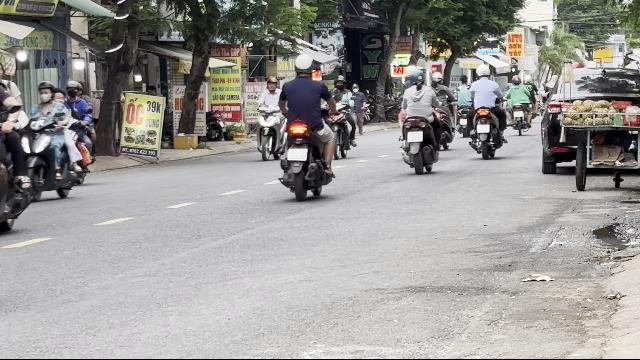helmet: (294, 54, 314, 76), (37, 80, 55, 102), (407, 66, 425, 86), (65, 80, 81, 100)
licenseplate: (287, 149, 307, 161), (407, 132, 423, 142)
motorcyclist: (12, 78, 94, 204), (276, 54, 336, 200), (396, 65, 440, 173)
